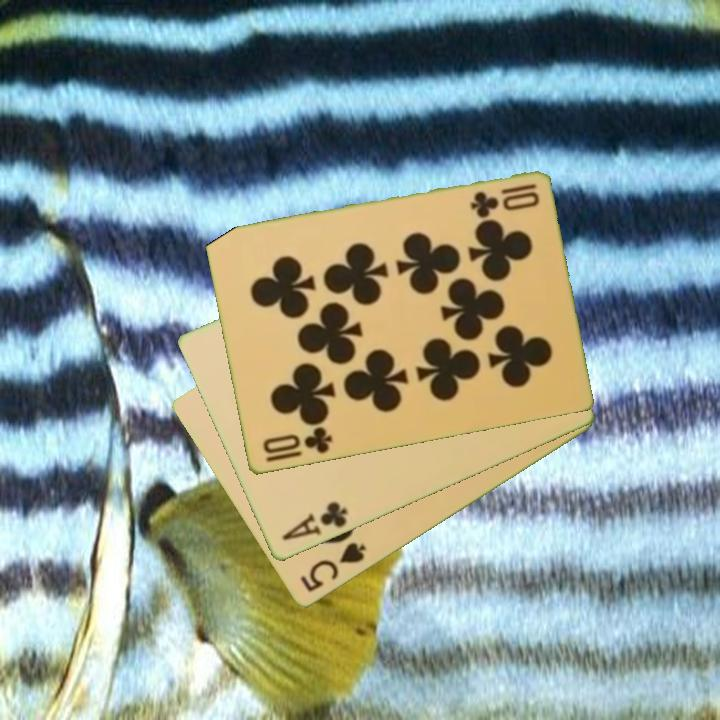10c: (466, 180, 542, 219), (259, 423, 335, 457)
5s: (296, 539, 369, 596)
Ac: (278, 498, 350, 544)
